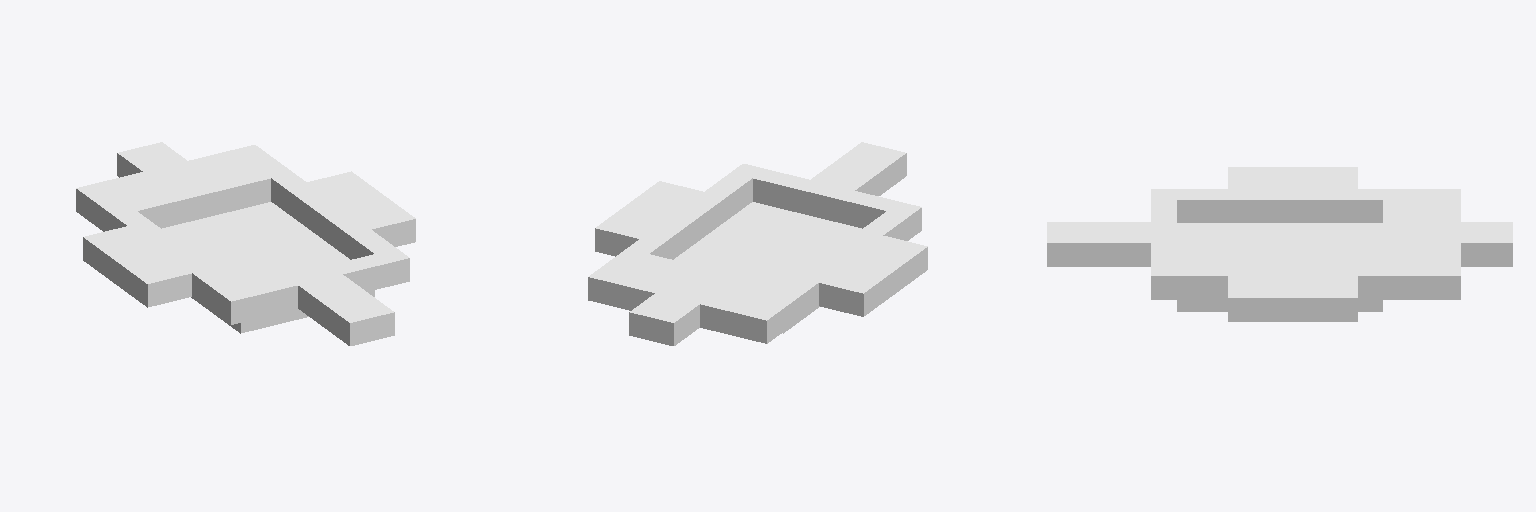
File: LampLight.obj
3 renders of one model, left to right at view 1: azimuth 30°, elevation 25°; view 2: azimuth 150°, elevation 25°; view 3: azimuth 270°, elevation 25°, orthographic.
Visible parts, largest first — view 1: object 1; view 2: object 1; view 3: object 1.
Boxes of the visible parts, <box> form: object 1: <box>76,142,415,345</box>; object 1: <box>588,142,927,345</box>; object 1: <box>1047,167,1512,321</box>.
Bounding box in the file's own units: 1.2 × 0.2 × 1.8.